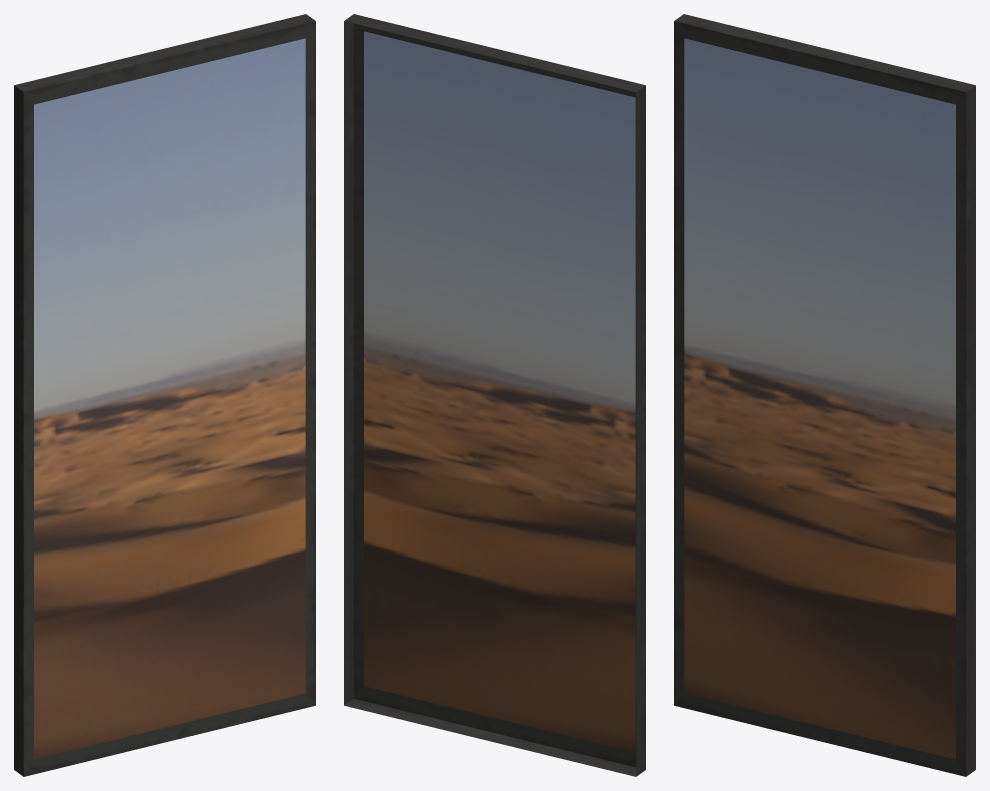
File: paint_4.fbx
The picture shows the model from 3 angles, left to right: view 1: azimuth 30°, elevation 25°; view 2: azimuth 150°, elevation 25°; view 3: azimuth 330°, elevation 25°; orthographic projection.
Parts seen in each view (by area): view 1: pCube4; view 2: pCube4; view 3: pCube4.
Boxes of the visible parts, <box> form: pCube4: <box>14,14,315,776</box>; pCube4: <box>344,14,645,776</box>; pCube4: <box>674,14,975,776</box>.
Bounding box in the file's own units: 76.69 × 172 × 4.38.
